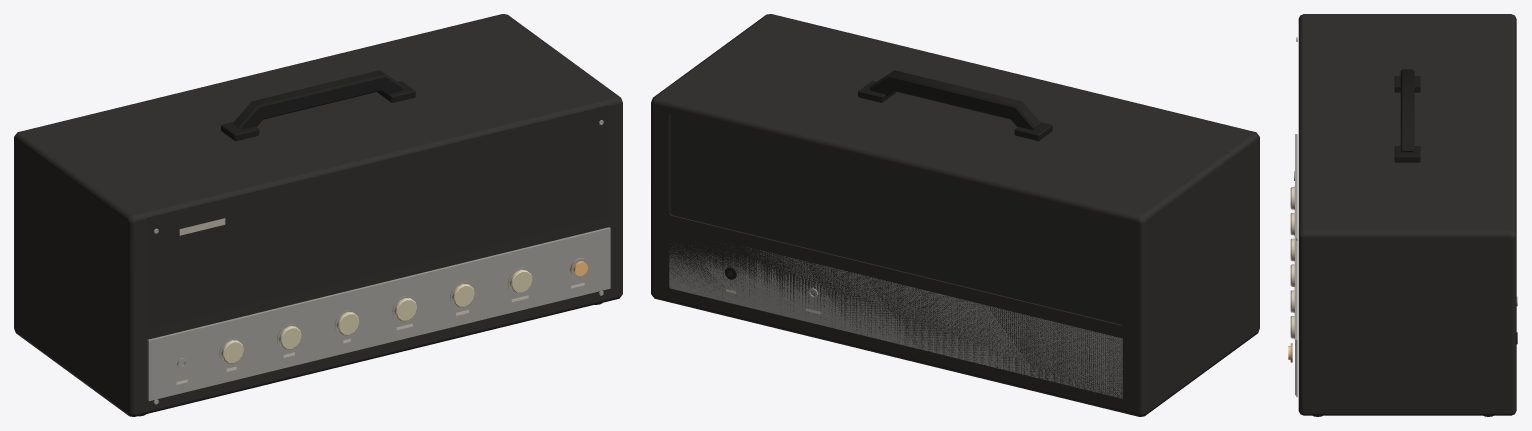
File: tube-amp-head-4e2051425231.glb
3 views of the same model, side by side, from view 1: azimuth 30°, elevation 25°; view 2: azimuth 150°, elevation 25°; view 3: azimuth 270°, elevation 25° (orthographic). The views are drawn at different scales.
Parts seen in each view (by area): view 1: plastic-dark, speaker-cloth, brushed, rubber, dial-cream; view 2: plastic-dark, grille-mesh, brushed, rubber; view 3: plastic-dark, rubber, brushed, dial-cream, speaker-cloth.
Part boxes in pixels (box(x1,y1,x2,y2)): plastic-dark: box(14, 14, 622, 416); speaker-cloth: box(147, 105, 608, 329); brushed: box(147, 120, 610, 404); rubber: box(221, 70, 415, 141); dial-cream: box(221, 269, 532, 363); plastic-dark: box(651, 14, 1259, 416); grille-mesh: box(670, 113, 1122, 324); brushed: box(669, 243, 1122, 398); rubber: box(724, 70, 1052, 279); plastic-dark: box(1298, 14, 1516, 415); rubber: box(1394, 69, 1517, 344); brushed: box(1290, 37, 1517, 397); dial-cream: box(1290, 187, 1294, 338); speaker-cloth: box(1298, 22, 1299, 229).
Bounding box in the file's own units: 0.6 × 0.271 × 0.2635.
